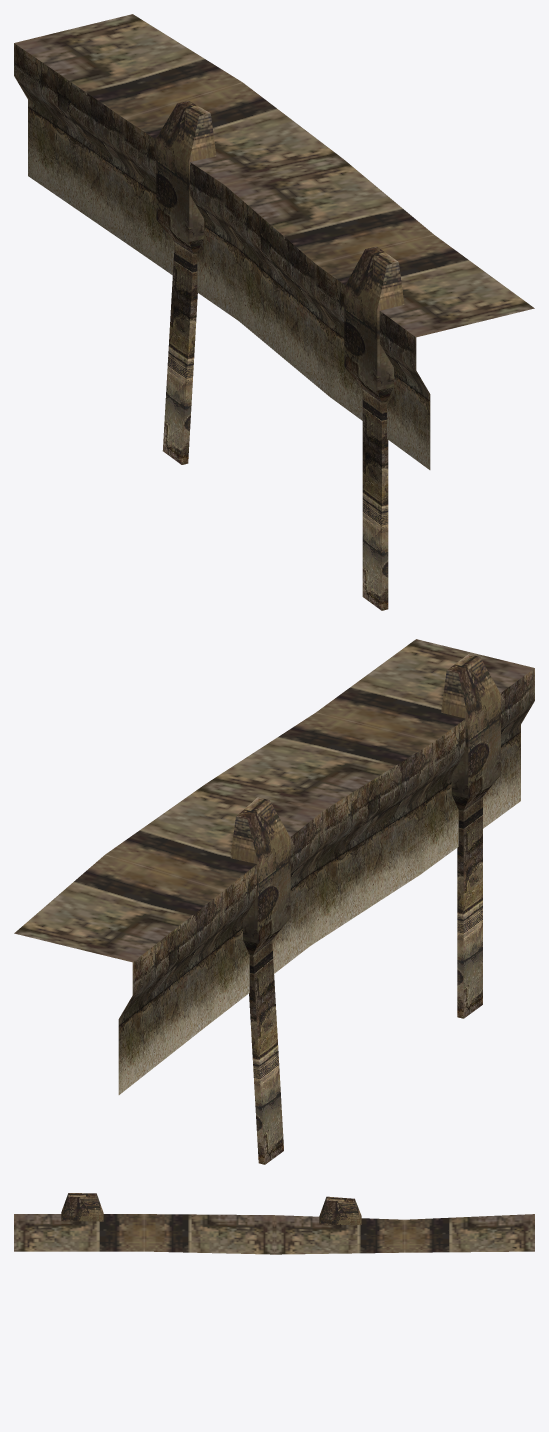
File: OZ_09_wv_T04wall01A.glb
The picture shows the model from 3 angles, top to bottom: view 1: azimuth 30°, elevation 25°; view 2: azimuth 150°, elevation 25°; view 3: azimuth 270°, elevation 25°; orthographic projection. The views are drawn at different scales.
Visible parts, largest first — view 1: OM_09_wv_T04wall01A; view 2: OM_09_wv_T04wall01A; view 3: OM_09_wv_T04wall01A.
Boxes of the visible parts, box(x1,y1,x2,y2) form: OM_09_wv_T04wall01A: box(14, 14, 534, 610); OM_09_wv_T04wall01A: box(14, 639, 534, 1164); OM_09_wv_T04wall01A: box(14, 1193, 534, 1254).
Bounding box in the file's own units: 4.51 × 11.39 × 24.
Materials: 2 (2 with a texture image).
